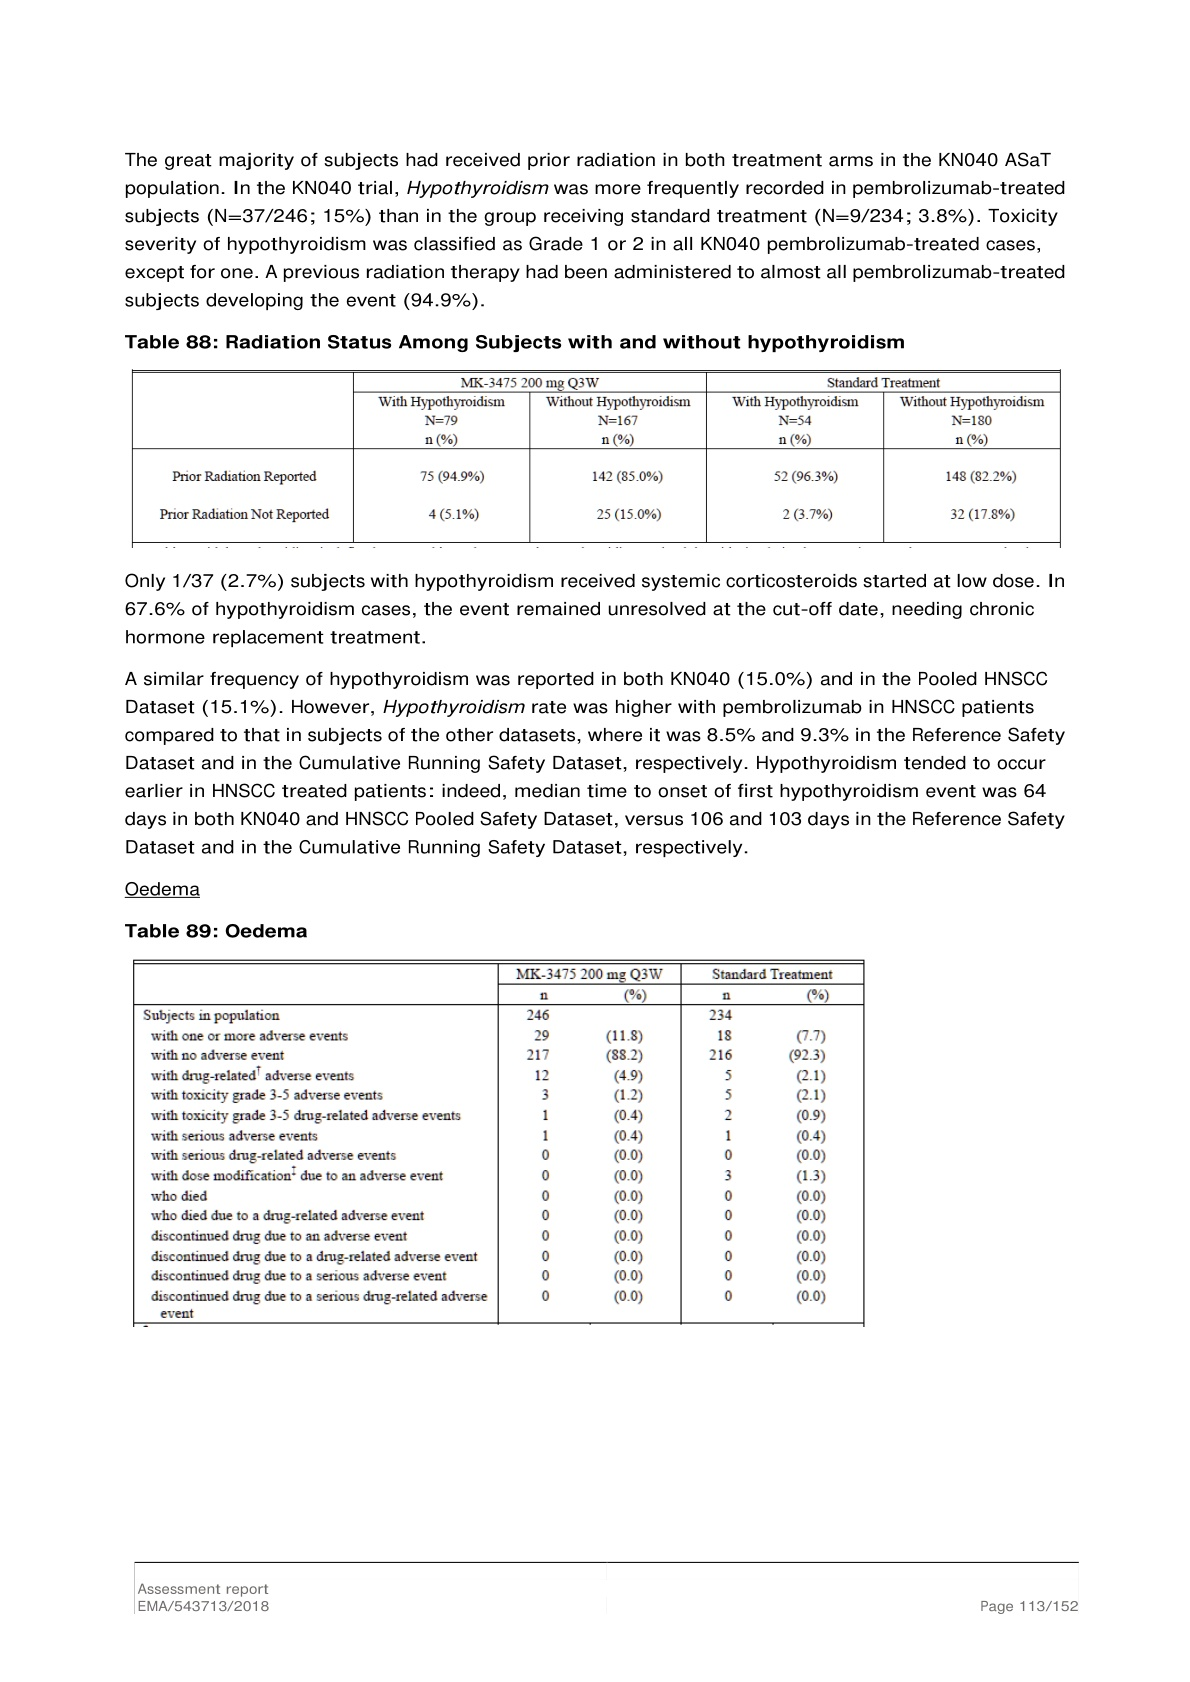partial_lined_merged_cells: (131, 957, 865, 1327), (131, 370, 1062, 545)
